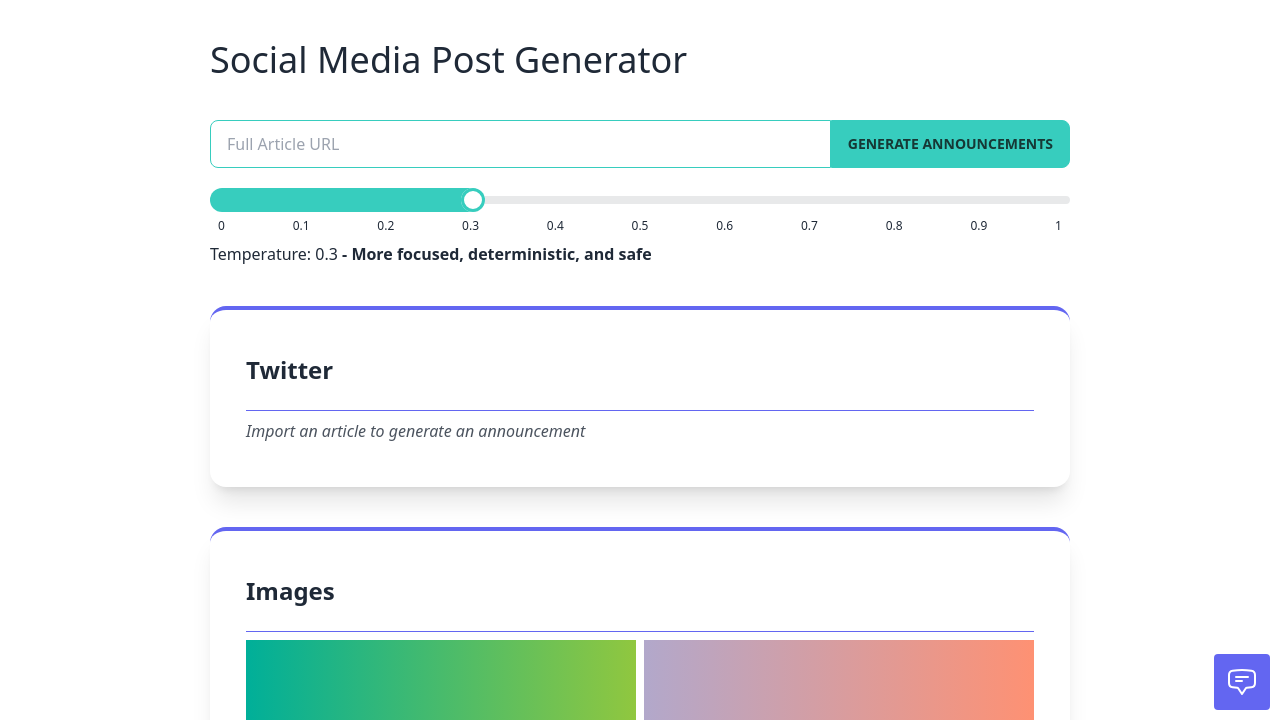
Test: Chat Bot › should open chat if the chat icon was clicked
This screenshot has width=1280, height=720.
Click the button with test id "chat-toggle-btn" at x=1242, y=682, box [1214,654,1270,710]
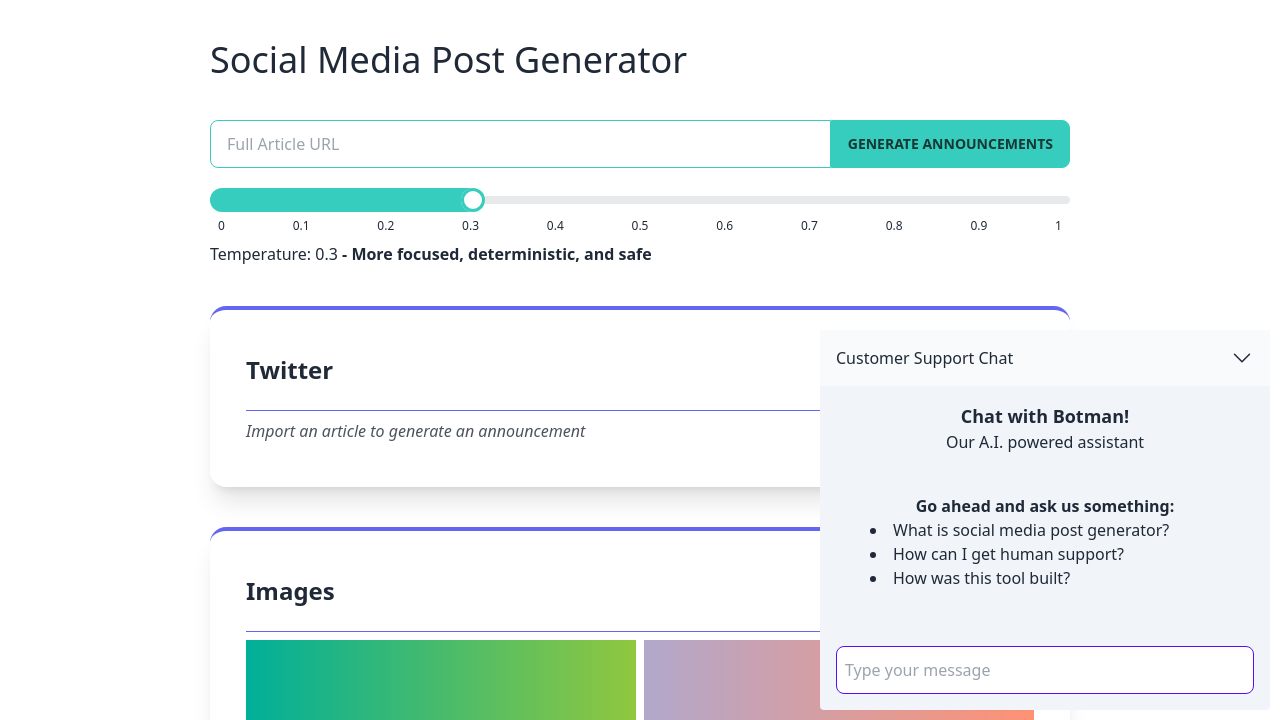
Expected: the element with test id "chat-widget-content" is shown, [820,330,1270,710]
